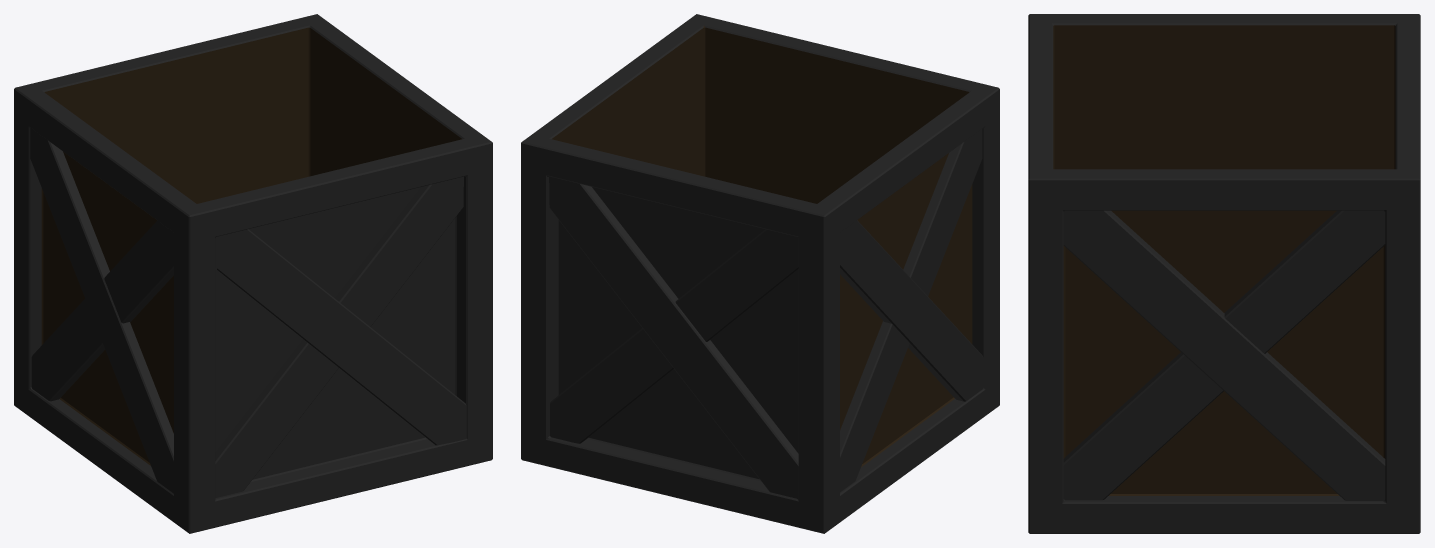
File: Box_Open.fbx
3 renders of one model, left to right at view 1: azimuth 30°, elevation 25°; view 2: azimuth 150°, elevation 25°; view 3: azimuth 270°, elevation 25°, orthographic. The views are drawn at different scales.
Parts seen in each view (by area): view 1: Box_Open_Without Lid; view 2: Box_Open_Without Lid; view 3: Box_Open_Without Lid.
Boxes of the visible parts, x1,y1,x2,y2 form: Box_Open_Without Lid: [14, 14, 492, 533]; Box_Open_Without Lid: [521, 14, 999, 533]; Box_Open_Without Lid: [1028, 14, 1420, 533].
Size of the model in its own units: 50.52 by 50.52 by 50.52.
